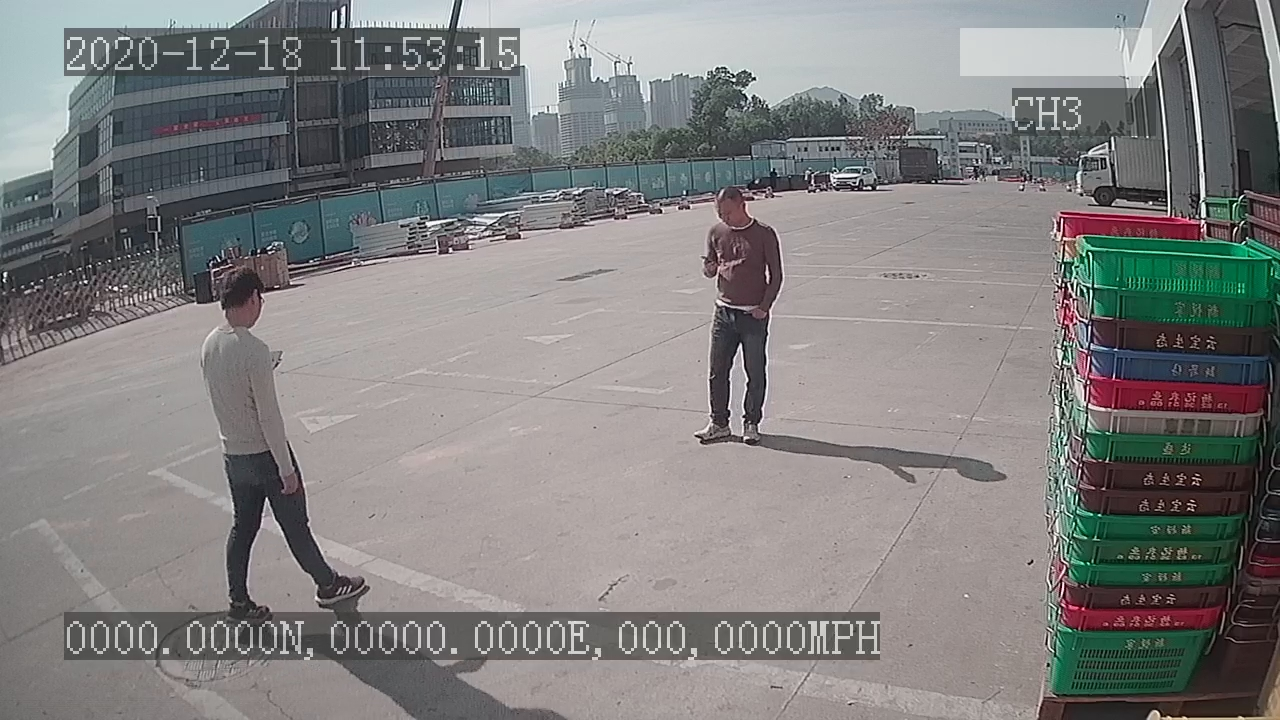person: (683, 183, 790, 458)
